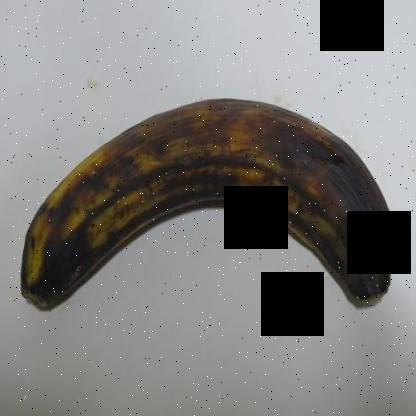overripe: (10, 71, 406, 334)
